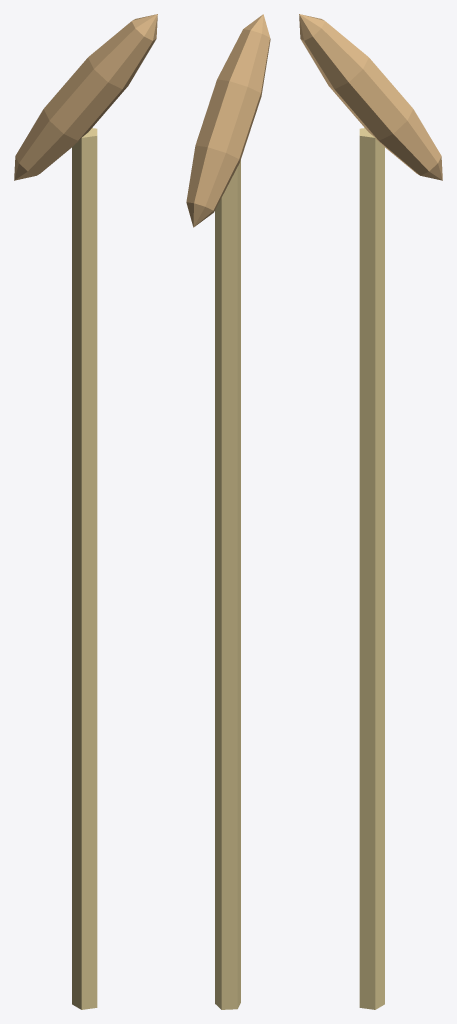
The model's file is millet.glb.
The picture shows the model from 3 angles, left to right: view 1: azimuth 90°, elevation 25°; view 2: azimuth 150°, elevation 25°; view 3: azimuth 270°, elevation 25°; orthographic projection. The views are drawn at different scales.
Visible parts, largest first — view 1: millet-clump; view 2: millet-clump; view 3: millet-clump.
Boxes of the visible parts, <box> form: millet-clump: <box>14,14,157,1009</box>; millet-clump: <box>186,14,270,1009</box>; millet-clump: <box>299,14,442,1009</box>.
Size of the model in its own units: 0.0799 by 1.7 by 0.2241.
